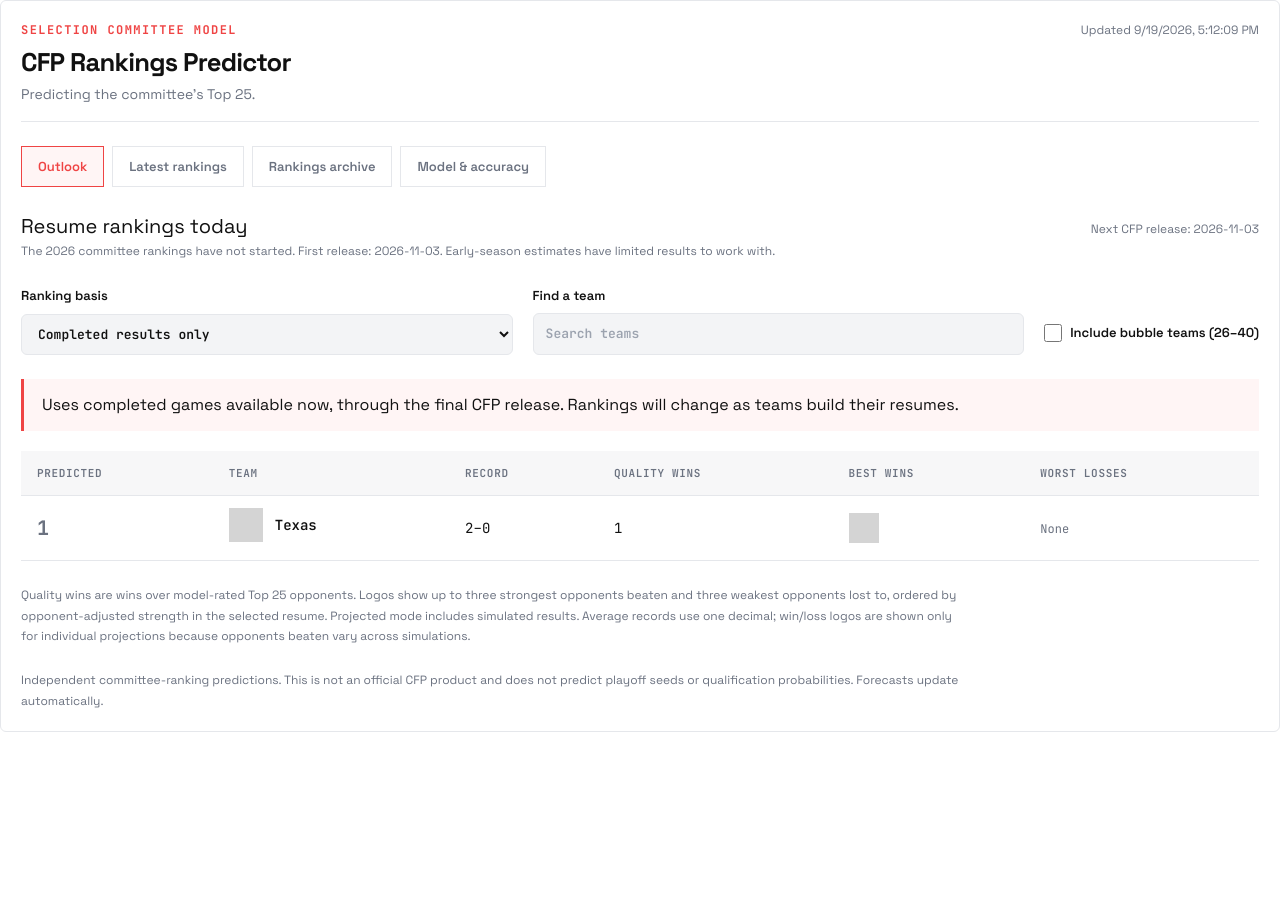
projection arrows change records and logos together and return to main
Check: the heading "Resume rankings today" is shown, box [21,211,247,241]
Select "Project to next release" in the dropdown labelled "Ranking basis" at (267, 334), box [21,314,513,355]
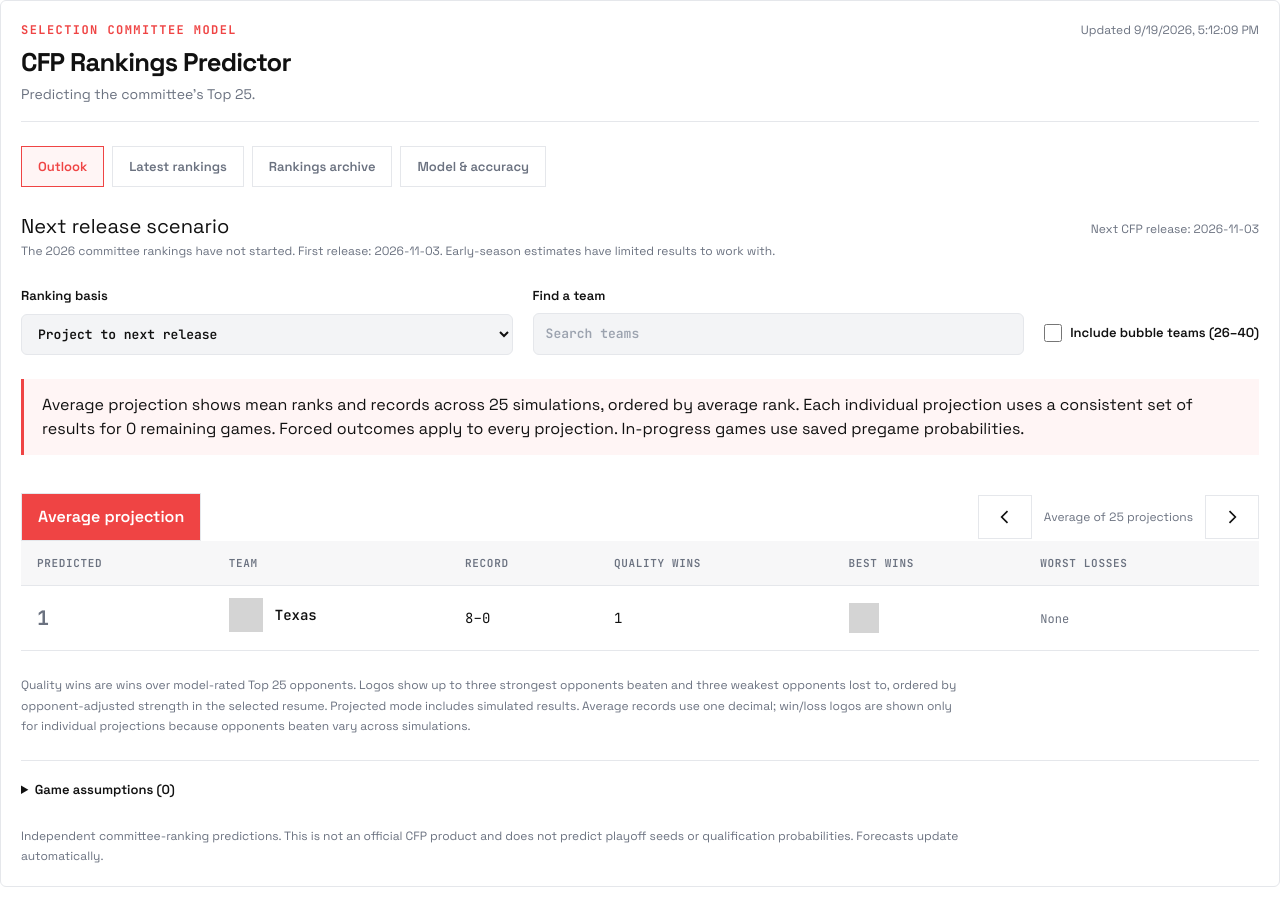
Click the button named "Next projection" at (1232, 517), box [1205,495,1259,539]
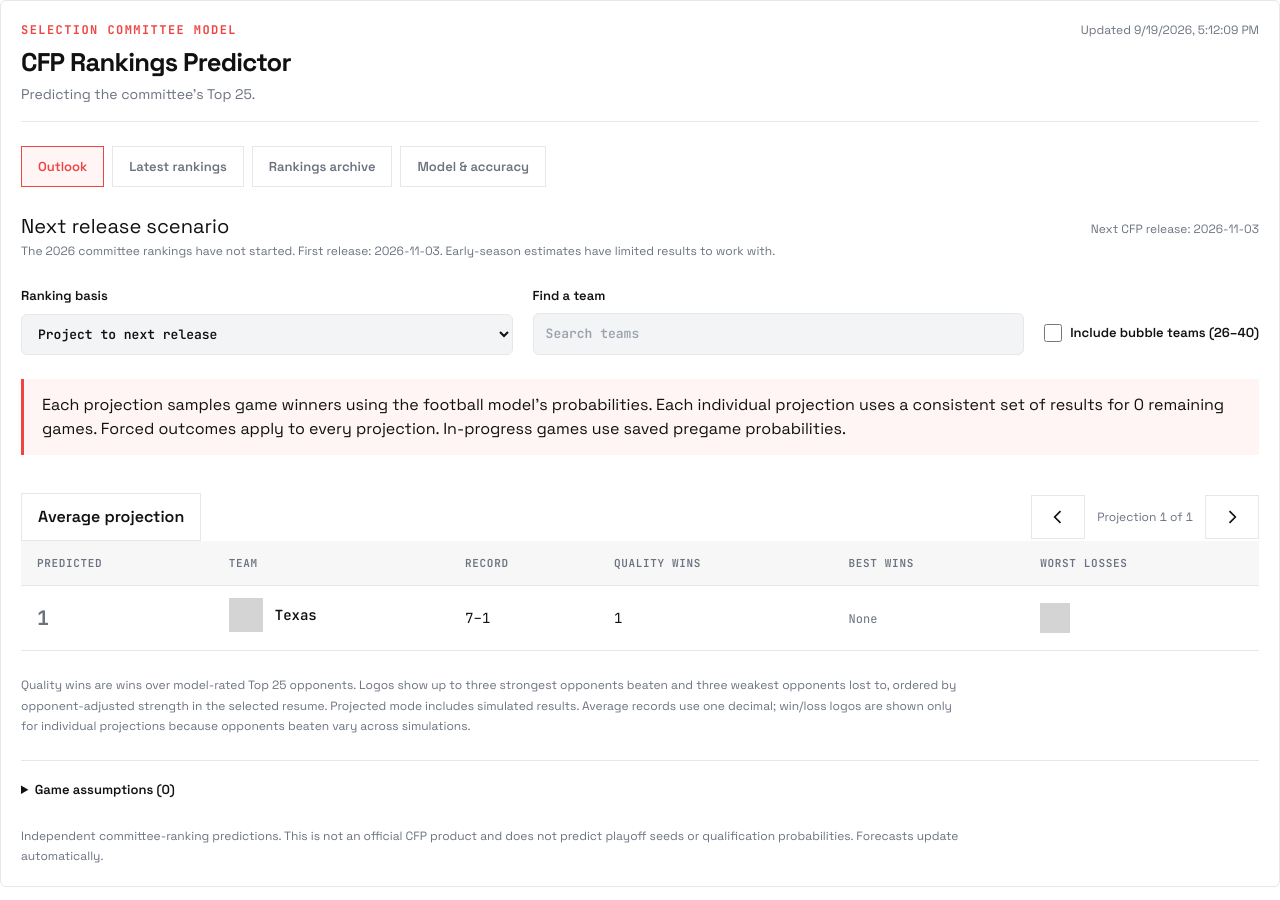
Check: the text "7–1" is shown, box [449,586,598,651]
Check: the picture with alt text "Georgia" is gone
Check: the message reads "Projection 1 of 1", box [1097,509,1193,525]
Click the button named "Previous projection" at (1058, 517), box [1031,495,1085,539]
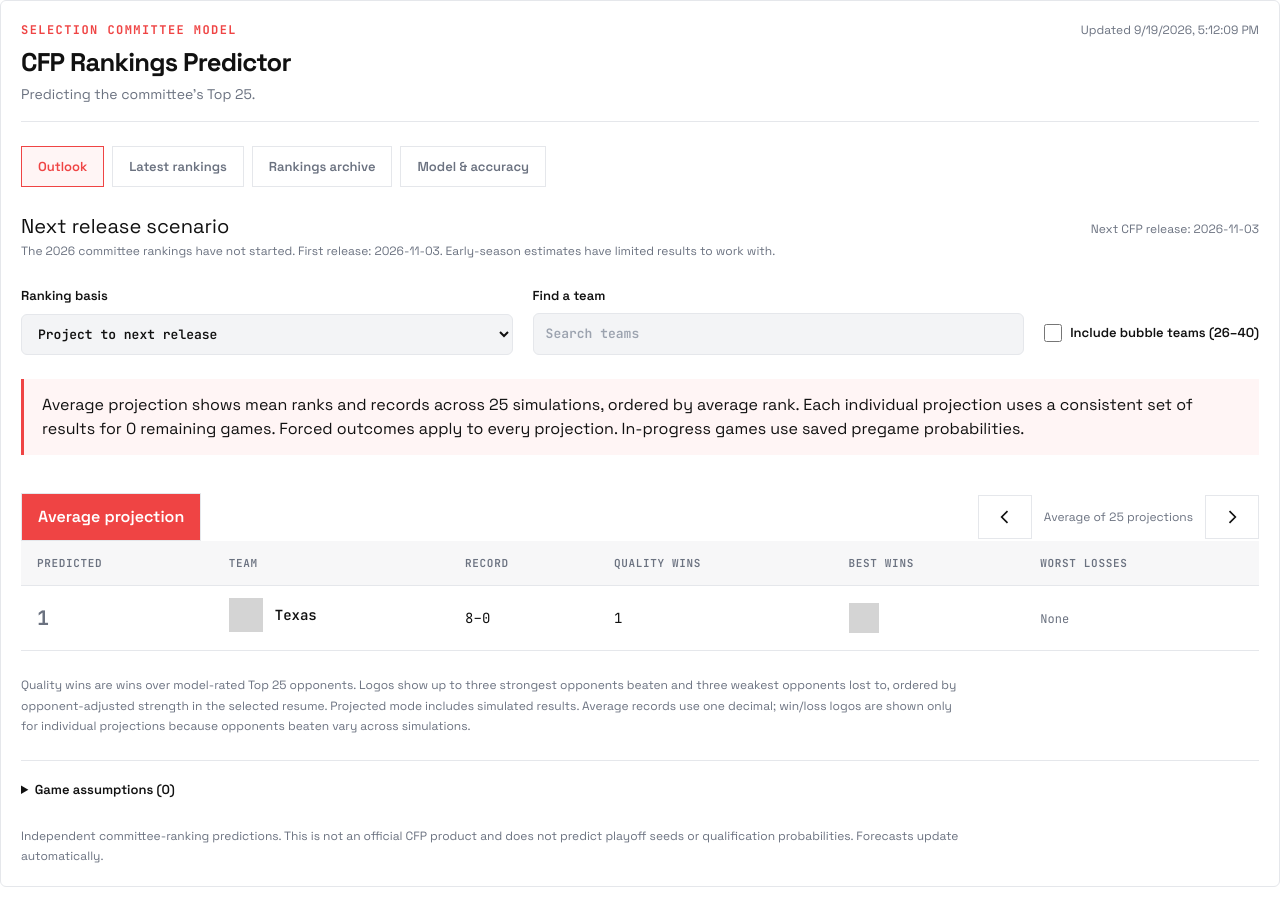
Check: the text "8–0" is shown, box [449,586,598,651]
Click the button named "Previous projection" at (1005, 517), box [978,495,1032,539]
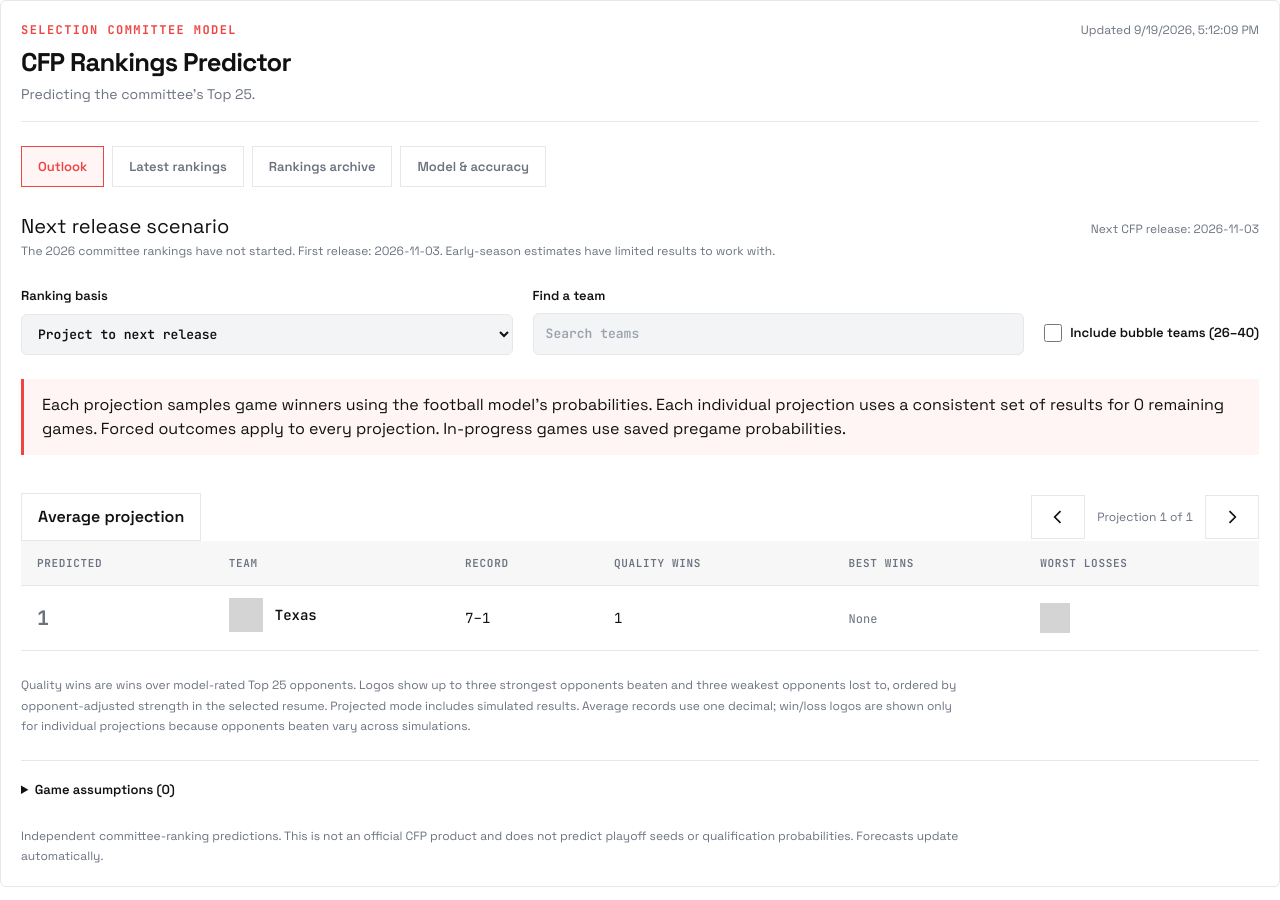
Check: the text "7–1" is shown, box [449,586,598,651]
Click the button "Average projection" at (111, 517), box [21,493,201,541]
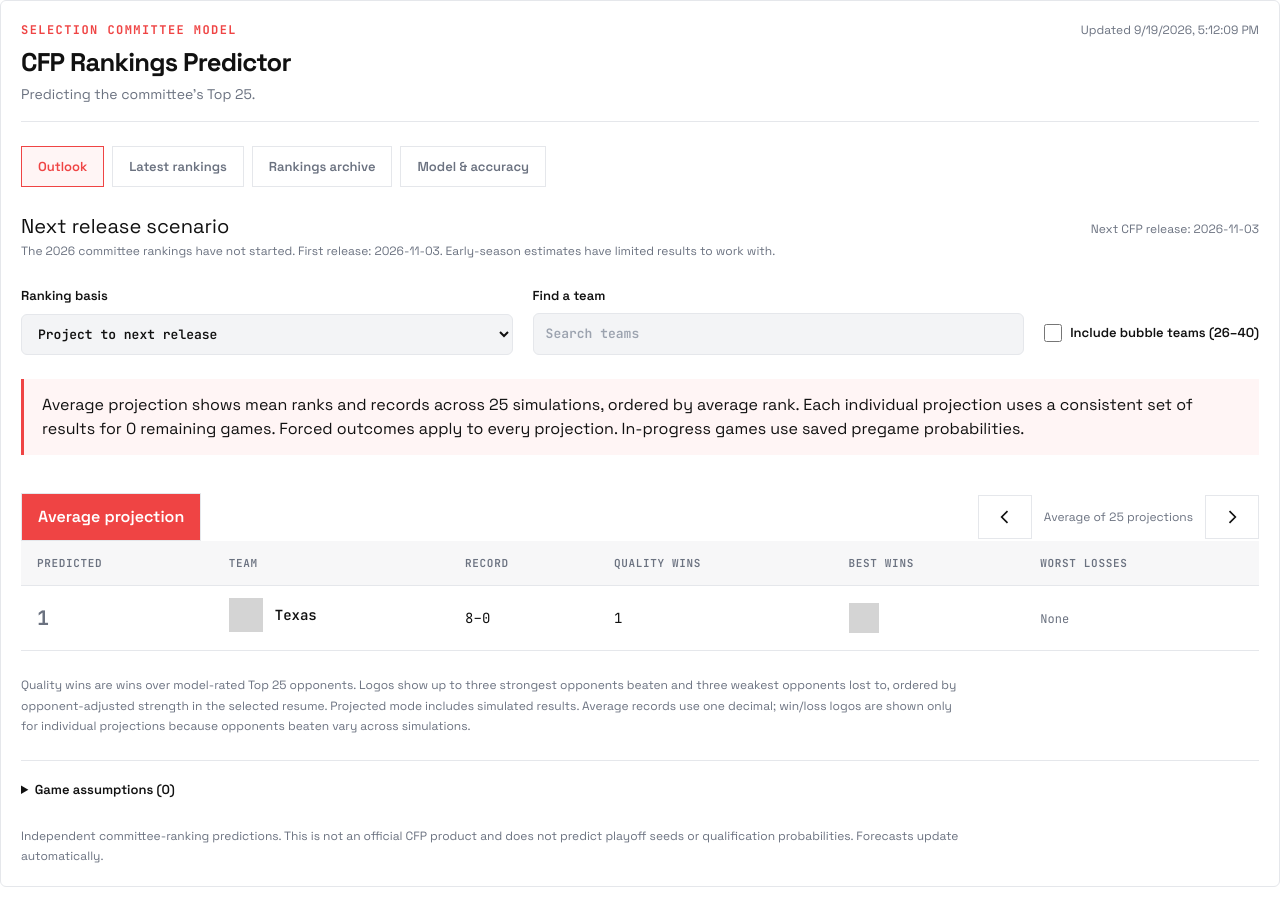
Check: the text "8–0" is shown, box [449,586,598,651]
